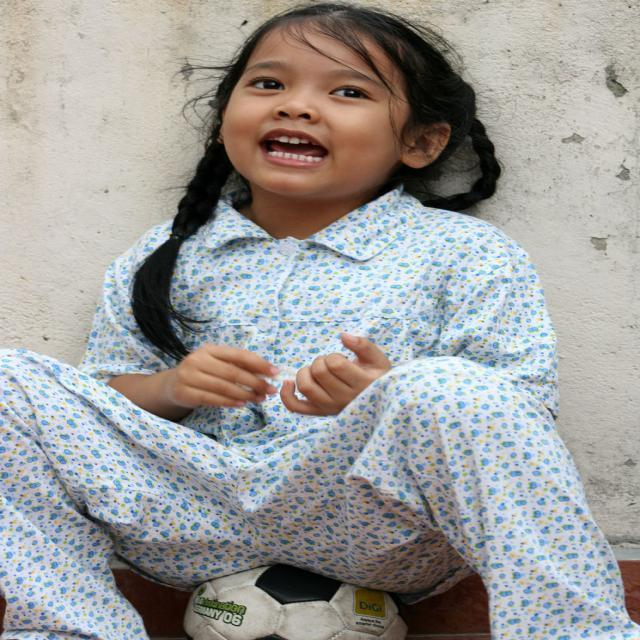ball: (181, 562, 414, 640)
